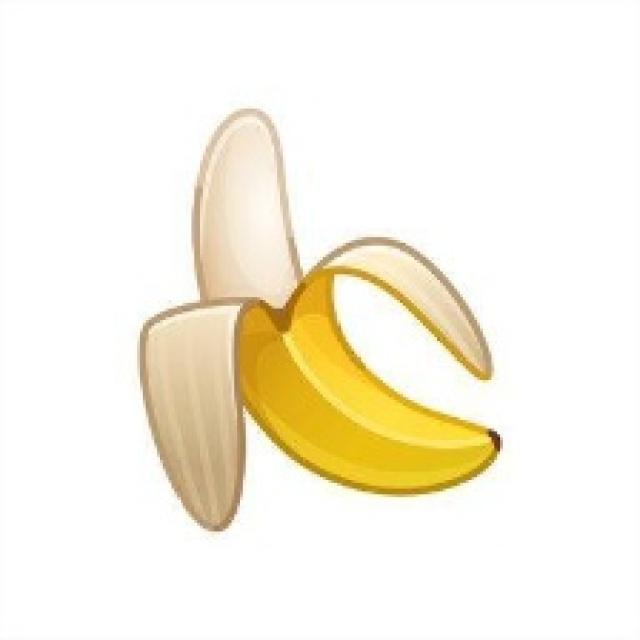Banana: (134, 106, 500, 531)
